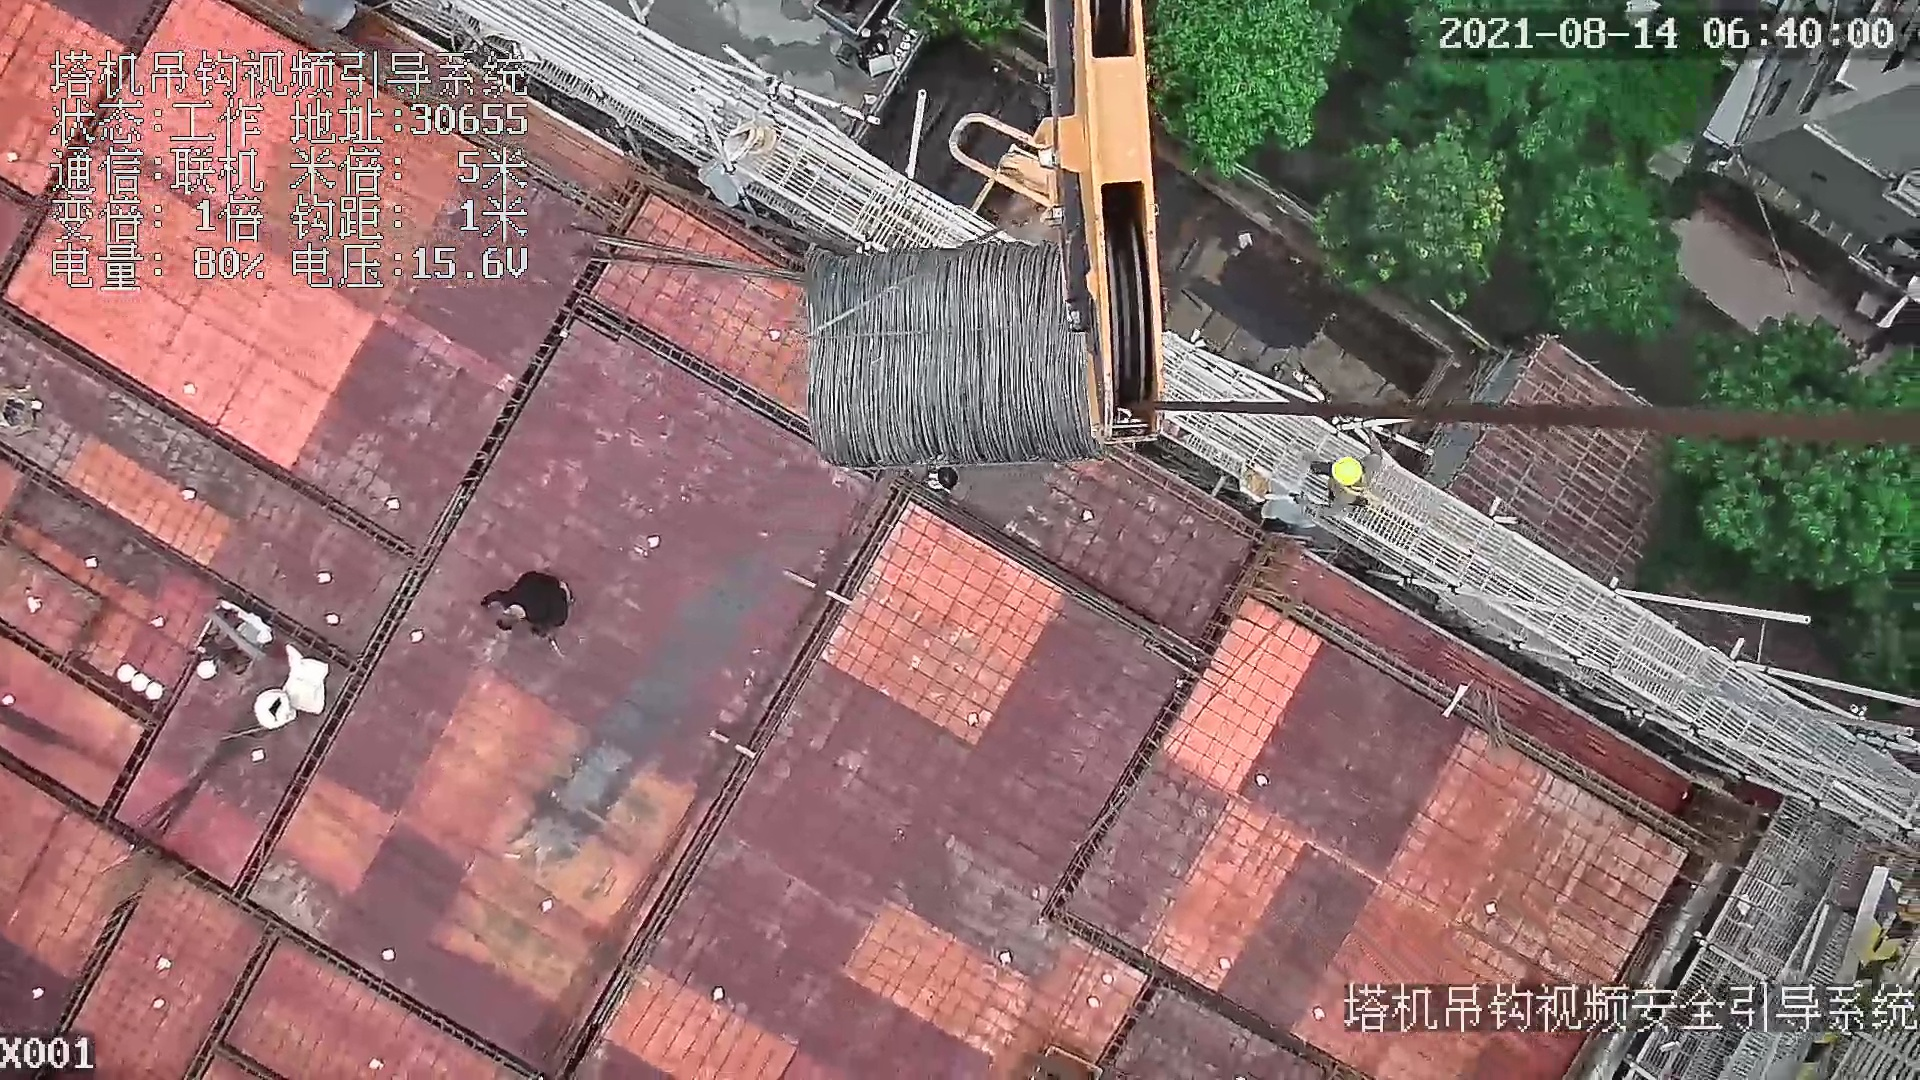helmet: (1329, 457, 1364, 483)
hook: (951, 1, 1168, 447)
person: (481, 563, 585, 642), (1315, 432, 1385, 521), (291, 1, 396, 54), (914, 468, 966, 497)
